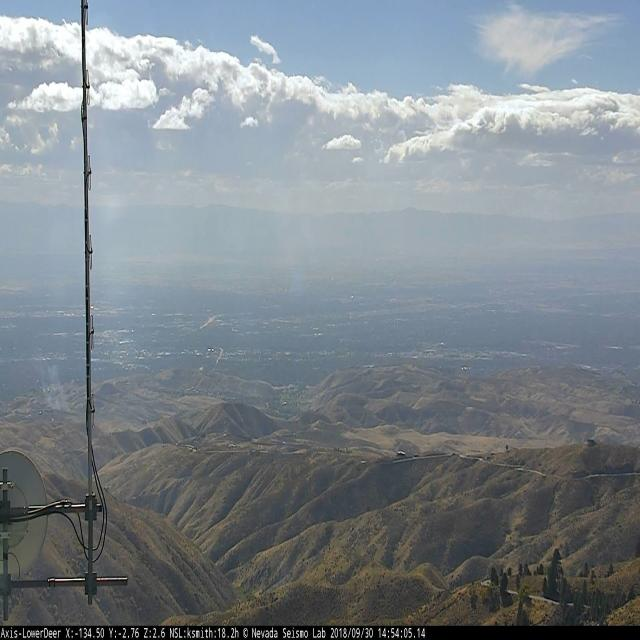smoke: (46, 362, 71, 414)
